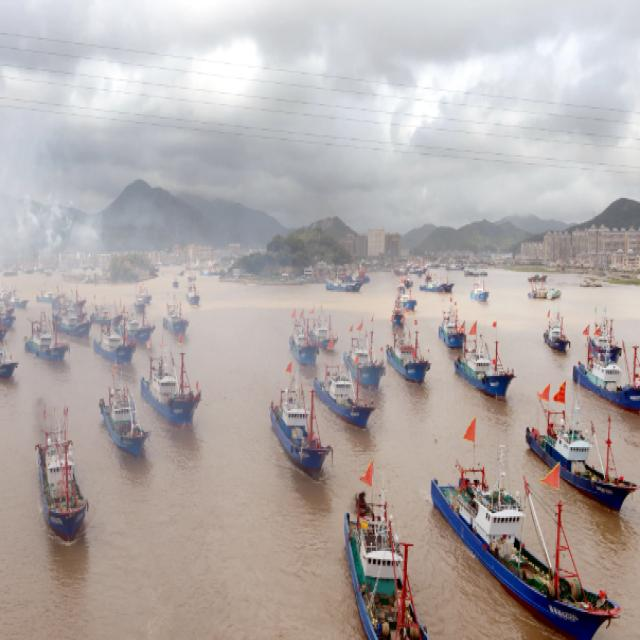fishing boat: (430, 448, 613, 640), (344, 462, 436, 640), (527, 397, 635, 502), (33, 395, 87, 543), (573, 315, 640, 421), (270, 378, 328, 472), (99, 365, 146, 467), (453, 330, 512, 402), (143, 354, 200, 428), (312, 361, 372, 427), (25, 308, 70, 363), (344, 320, 379, 390), (96, 321, 136, 364), (289, 316, 316, 368), (54, 300, 89, 336), (438, 302, 466, 346), (307, 309, 337, 349), (541, 306, 570, 346), (117, 310, 151, 343), (164, 294, 188, 338), (0, 332, 18, 378), (327, 271, 364, 293), (528, 278, 558, 302), (469, 274, 491, 306), (420, 275, 454, 295), (58, 289, 88, 311), (91, 300, 115, 327), (396, 279, 415, 309), (6, 288, 26, 314), (34, 282, 58, 302), (186, 282, 202, 308), (526, 267, 547, 285), (464, 265, 491, 279), (134, 294, 146, 314)
